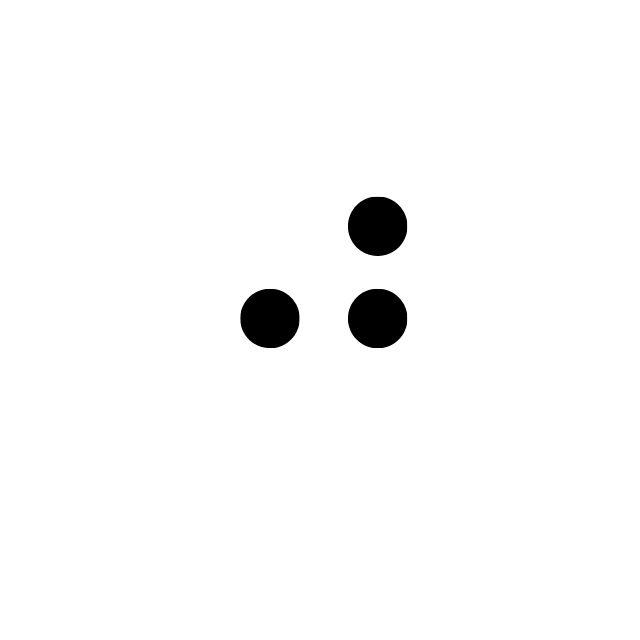binata: (240, 194, 407, 433)
